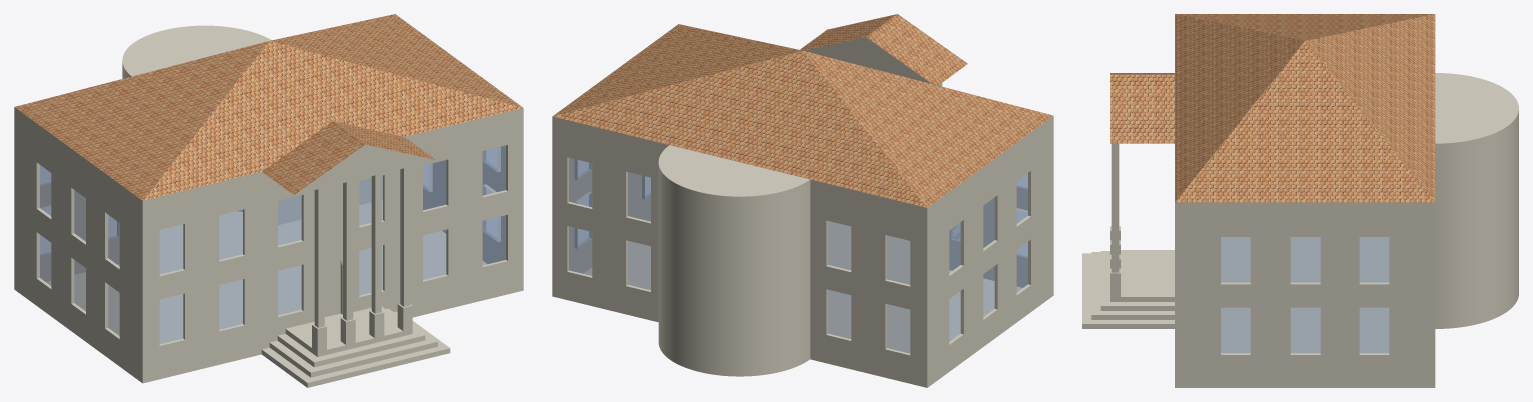
The model's file is duhovnaya-seminariya.glb.
The picture shows the model from 3 angles, left to right: view 1: azimuth 30°, elevation 25°; view 2: azimuth 150°, elevation 25°; view 3: azimuth 270°, elevation 25°; orthographic projection. The views are drawn at different scales.
Visible parts, largest first — view 1: Geom3D (×3); view 2: Geom3D (×3); view 3: Geom3D (×3).
Part boxes in pixels (x1=…): Geom3D (×3): x1=14, y1=14, x2=523, y2=387; Geom3D (×3): x1=552, y1=14, x2=1053, y2=387; Geom3D (×3): x1=1082, y1=14, x2=1518, y2=387.
Bounding box in the file's own units: 12 × 7.5 × 11.75.
Materials: 3 (1 with a texture image).
